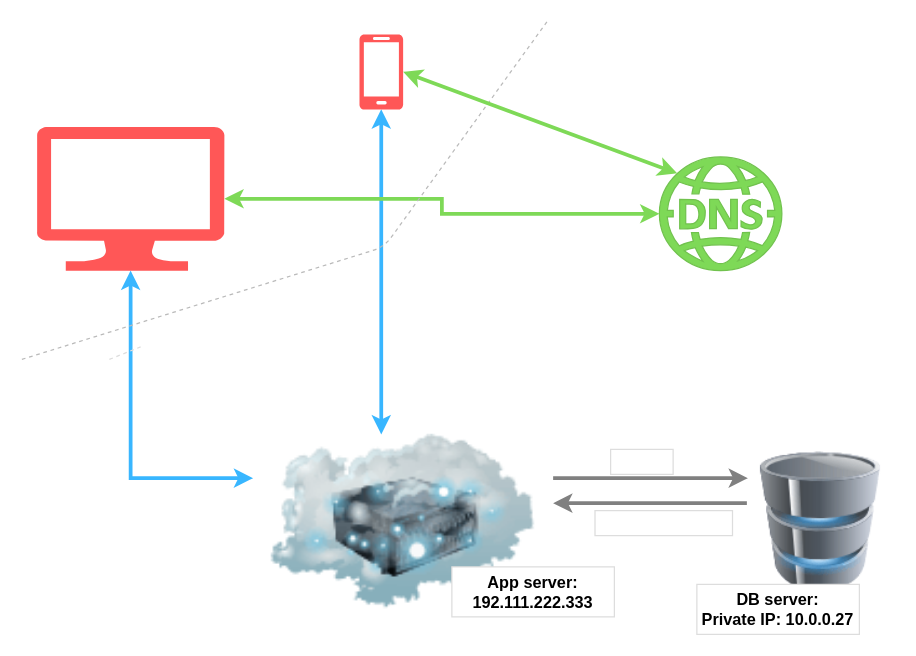
Some shapes in this 916 by 656 pixel diagram are drawn without their labels. The shapes that lost their labels are listed below. From the top down, each one's centre as x and y in pixels, then its label:
At point 641,461: "CRUD".
At point 663,522: "(Data) Response".
